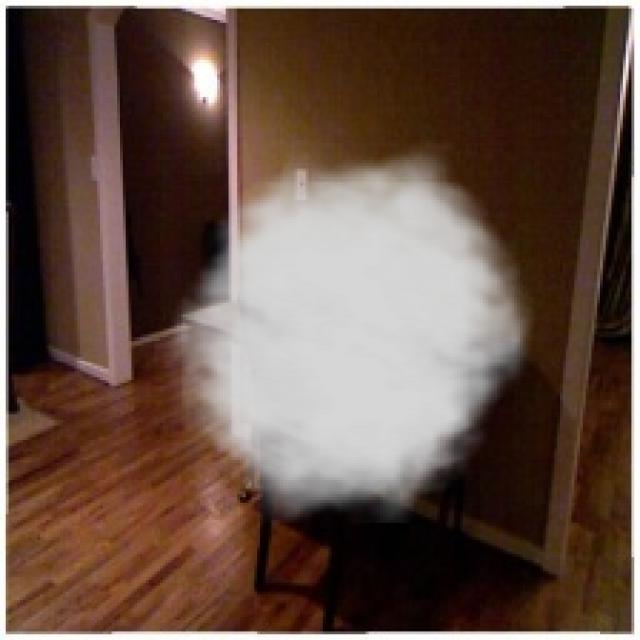smoke: (154, 137, 546, 523)
